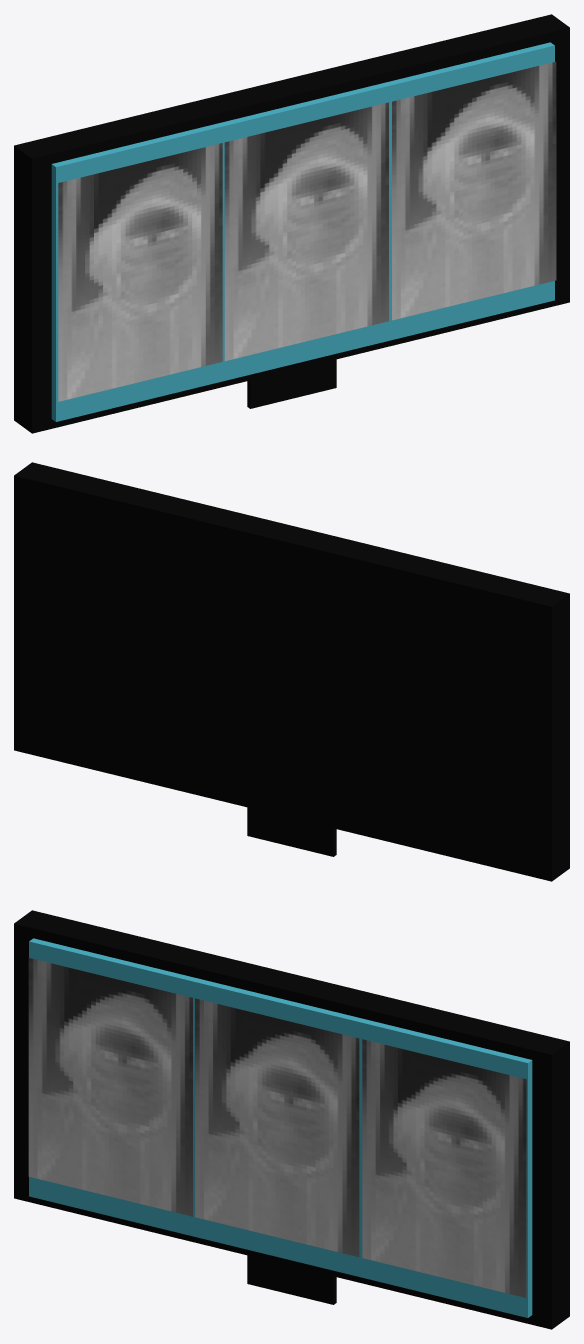
File: tvrick.obj
3 views of the same model, one above another, from view 1: azimuth 30°, elevation 25°; view 2: azimuth 150°, elevation 25°; view 3: azimuth 330°, elevation 25° (orthographic).
Parts seen in each view (by area): view 1: Plane.001, Plane.002, Plane, Cube.001, Cube.002, Cube.003; view 2: Cube.001, Cube.003; view 3: Plane.001, Plane, Plane.002, Cube.001, Cube.002, Cube.003.
Part boxes in pixels (x1,y1,x2,y2): Plane.001: (224,102,388,361); Plane.002: (392,61,556,320); Plane: (58,143,222,401); Cube.001: (14,14,569,433); Cube.002: (51,42,554,421); Cube.003: (247,359,336,408); Cube.001: (14,462,569,881); Cube.003: (247,807,336,856); Plane.001: (195,998,359,1257); Plane: (28,958,192,1216); Plane.002: (362,1039,526,1297); Cube.001: (14,910,569,1329); Cube.002: (29,938,532,1317); Cube.003: (247,1255,336,1304).
Bounding box in the file's own units: 4.1 × 2.26 × 0.3155.
